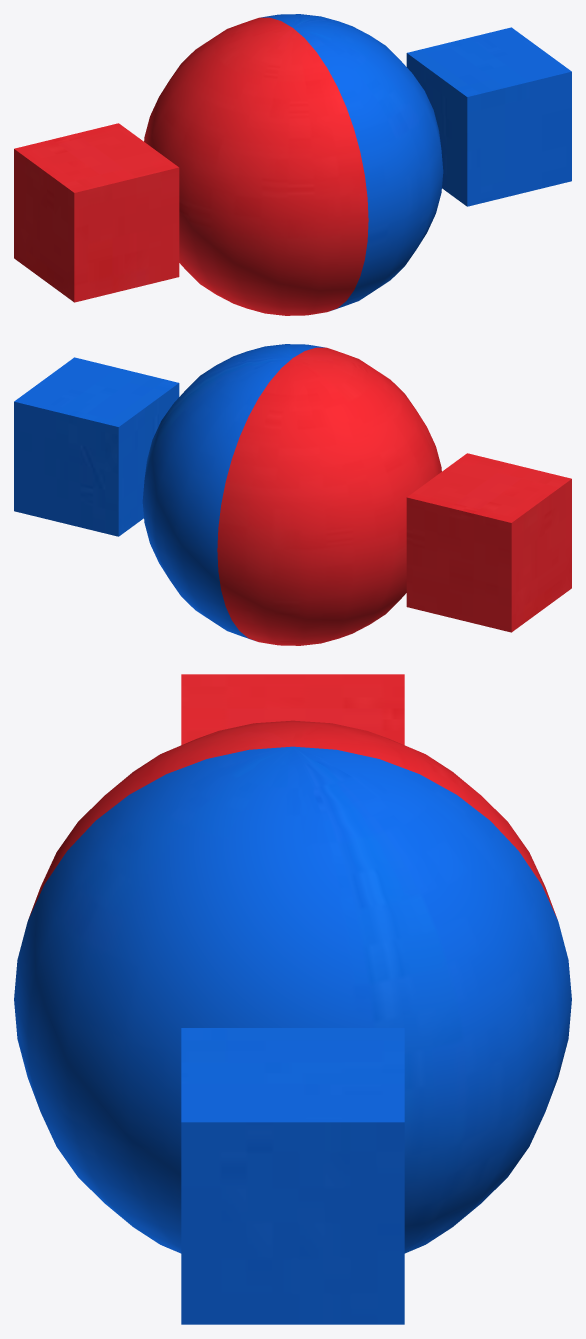
The model's file is Ball2.fbx.
3 renders of one model, top to bottom at view 1: azimuth 30°, elevation 25°; view 2: azimuth 150°, elevation 25°; view 3: azimuth 270°, elevation 25°, orthographic. The views are drawn at different scales.
Parts seen in each view (by area): view 1: pCube3; view 2: pCube3; view 3: pCube3.
Part boxes in pixels (left/top/right/bottom): pCube3: left=14, top=14, right=571, bottom=315; pCube3: left=14, top=344, right=571, bottom=645; pCube3: left=14, top=674, right=571, bottom=1324.
Size of the model in its own units: 3.8 by 2 by 2.
Materials: 2 (2 with a texture image).
